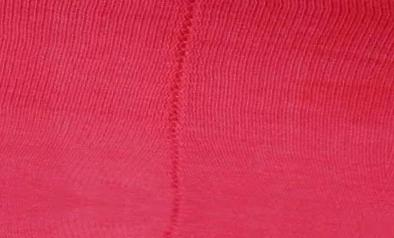slub: (161, 1, 199, 236)
